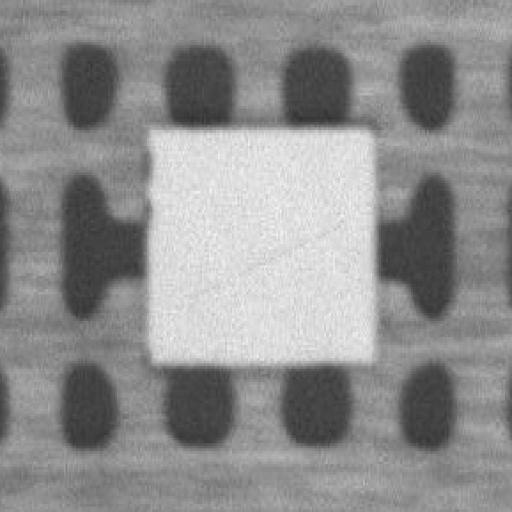DIE_CRACK: (281, 148, 504, 196)
